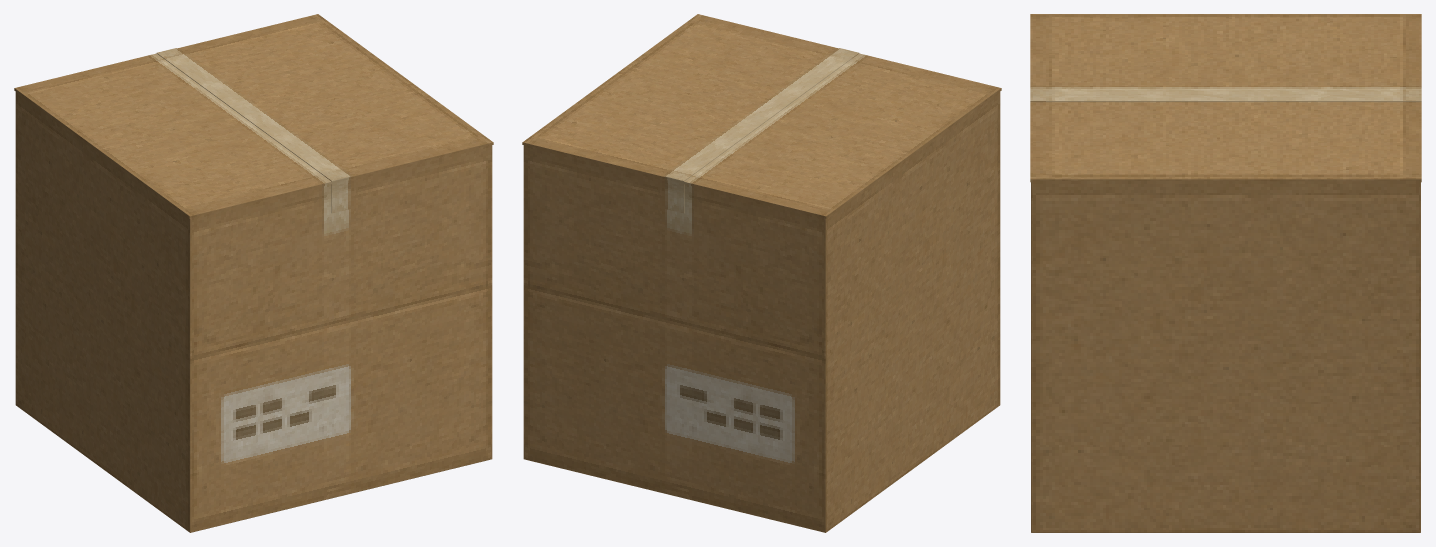
File: cardboard_box.glb
The picture shows the model from 3 angles, left to right: view 1: azimuth 30°, elevation 25°; view 2: azimuth 150°, elevation 25°; view 3: azimuth 270°, elevation 25°; orthographic projection. The views are drawn at different scales.
Parts seen in each view (by area): view 1: core_cardboard_box; view 2: core_cardboard_box; view 3: core_cardboard_box.
Boxes of the visible parts, left/top/right/bottom form: core_cardboard_box: left=14, top=14, right=493, bottom=532; core_cardboard_box: left=522, top=14, right=1001, bottom=532; core_cardboard_box: left=1030, top=14, right=1421, bottom=532.
Bounding box in the file's own units: 0.5 × 0.5 × 0.5.
Materials: 1 (1 with a texture image).
